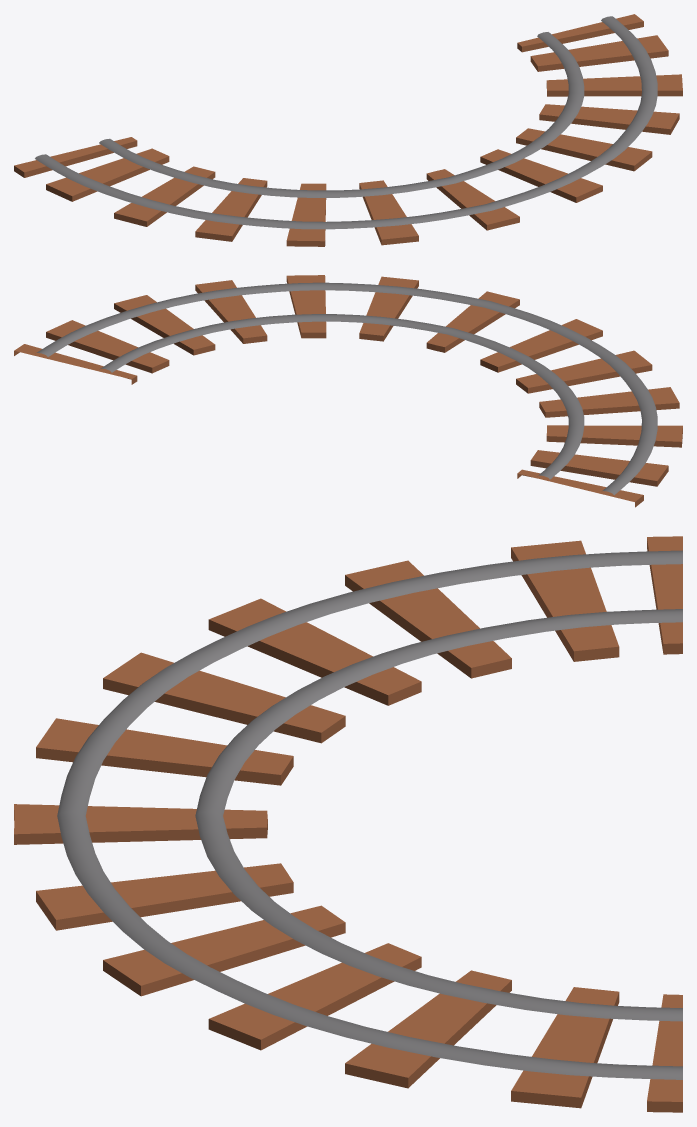
Rendered from Half_Round_Rail.fbx.
The picture shows the model from 3 angles, top to bottom: view 1: azimuth 30°, elevation 25°; view 2: azimuth 150°, elevation 25°; view 3: azimuth 270°, elevation 25°; orthographic projection. The views are drawn at different scales.
Parts seen in each view (by area): view 1: Half_Round_Rail; view 2: Half_Round_Rail; view 3: Half_Round_Rail.
Boxes of the visible parts, x1=… form: Half_Round_Rail: x1=14, y1=14, x2=682, y2=246; Half_Round_Rail: x1=14, y1=275, x2=682, y2=507; Half_Round_Rail: x1=14, y1=536, x2=682, y2=1112.
Bounding box in the file's own units: 961 × 14.33 × 480.
